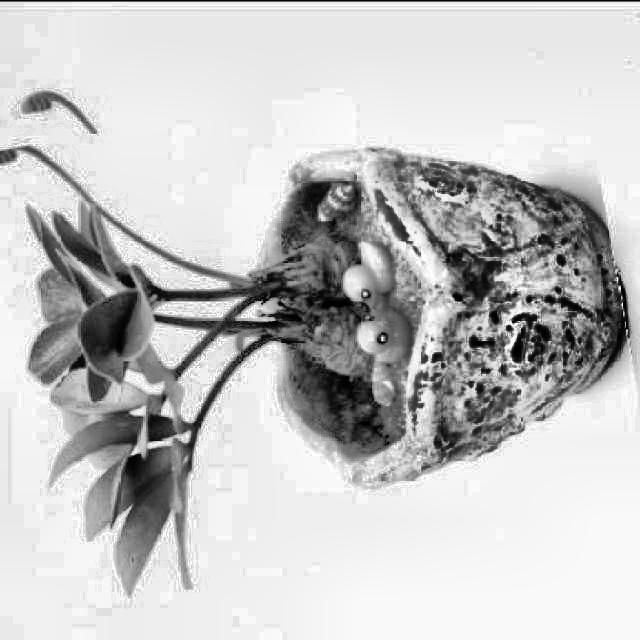plants: (0, 72, 638, 586)
